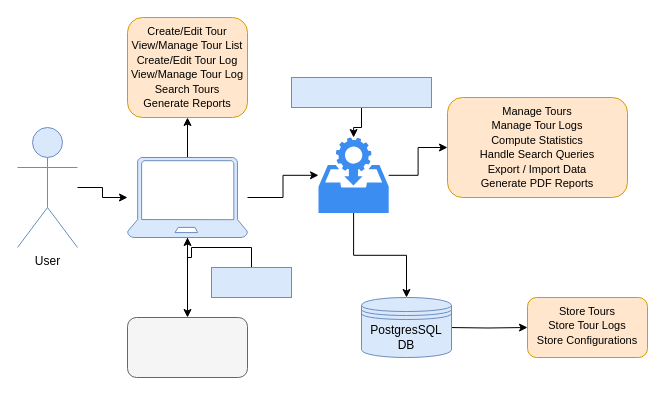
Image size: 665x395. Some labels were removed from this diagram. Each missing label, with the box of its shape:
Angular UI: (210, 266, 292, 298)
design and function unique feature: (126, 316, 248, 378)
Spring Boot Backend: (290, 76, 432, 108)
